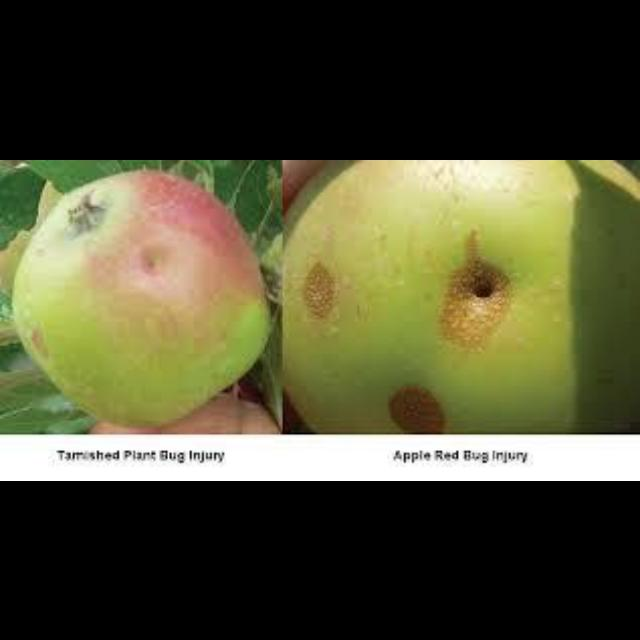apple: (281, 159, 638, 430), (12, 169, 269, 425)
pest: (433, 253, 519, 352), (299, 261, 340, 320)
rotten: (382, 381, 448, 432)
